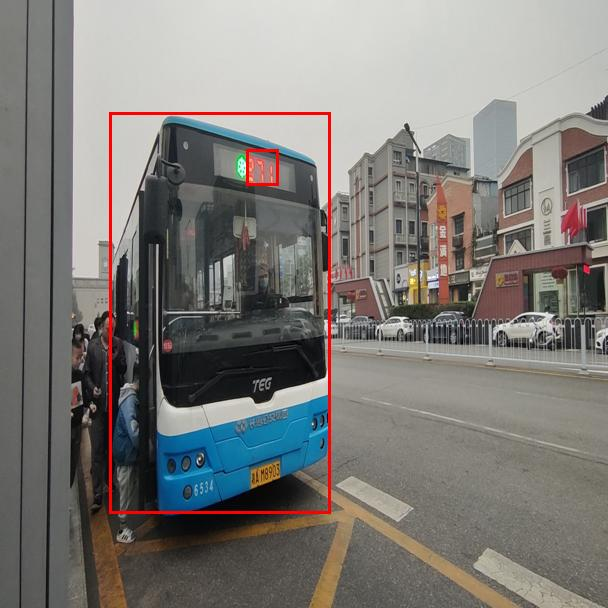bus: (109, 112, 330, 513)
screen: (246, 149, 278, 185)
